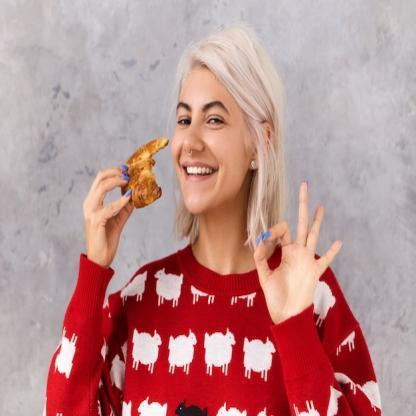ok: (252, 179, 343, 328)
